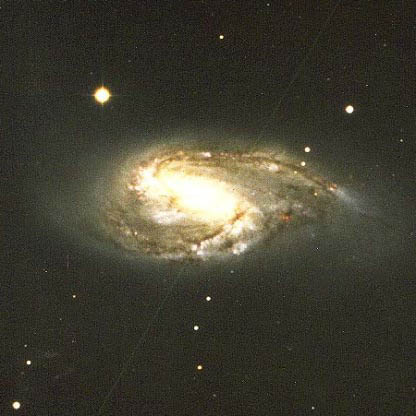Messier 66: (80, 83, 369, 282)
